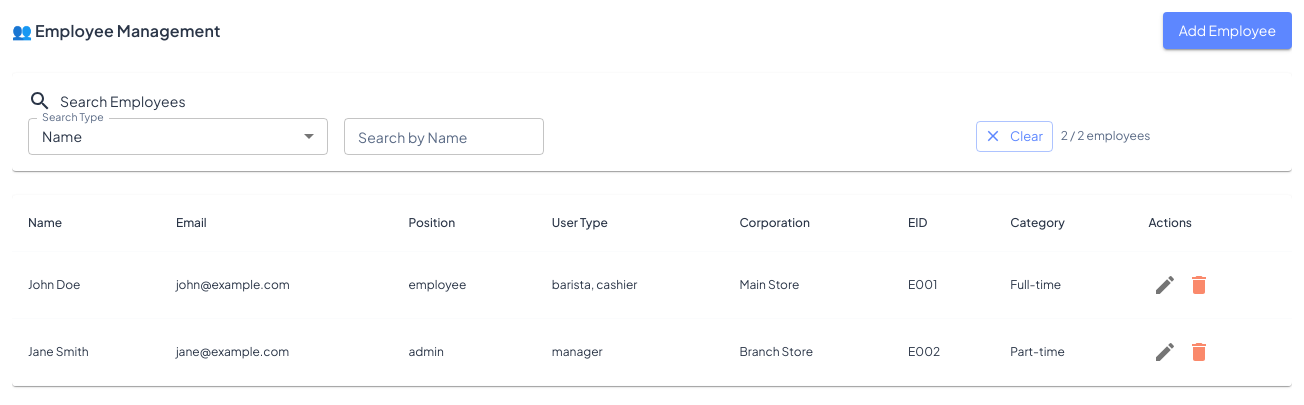
Scenario: EmployeeManagement › Search Functionality › clears search filters
expect the text "John Doe" is shown: met, box [12,252,160,318]
# Apply search
Step 1. Type "John" into the field labelled "Search by Name" → (444, 136), box [344,118,544,155]
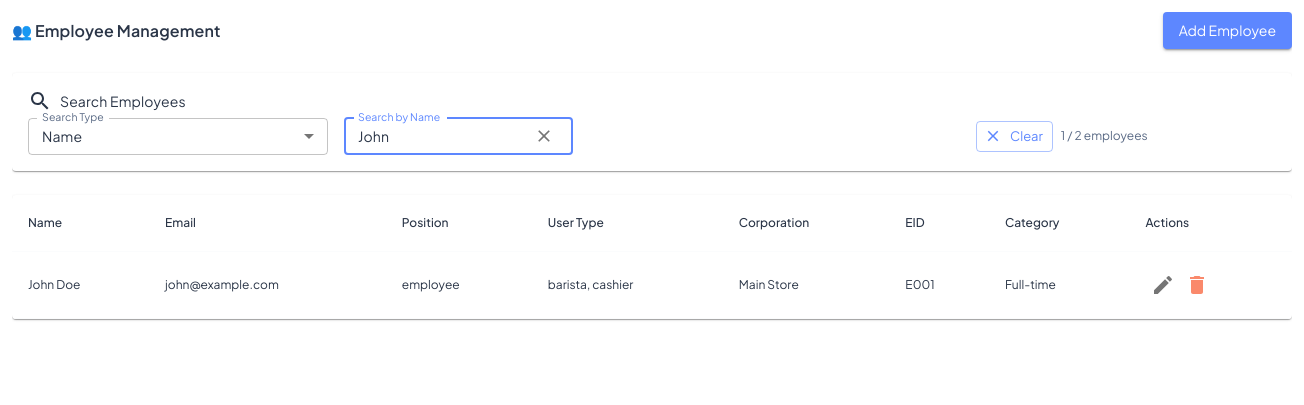
expect the text "1 / 2 employees" is shown: met, box [1061,128,1148,144]
# Clear search
Step 2. Click the button "Clear" → (1014, 136), box [976,121,1053,152]
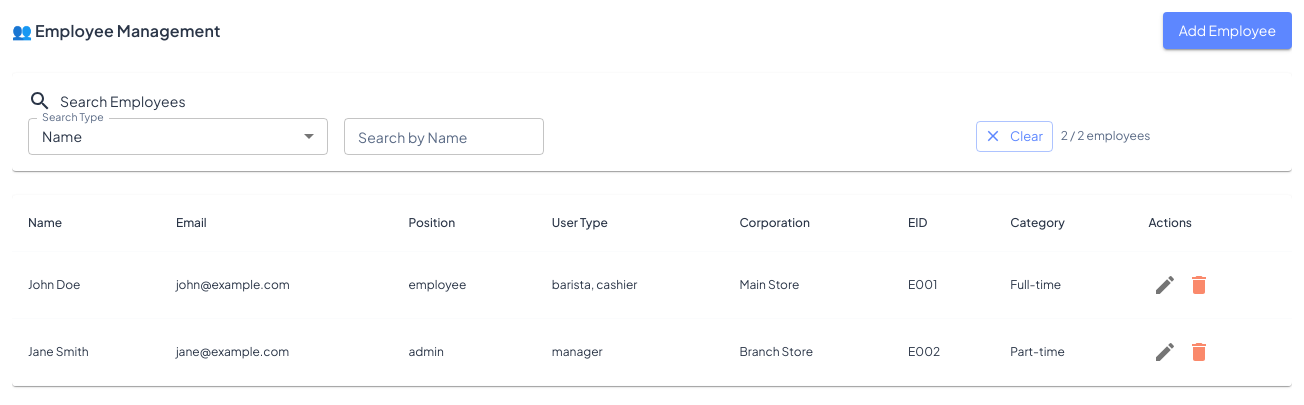
expect the text "2 / 2 employees" is shown: met, box [1061,128,1150,144]
